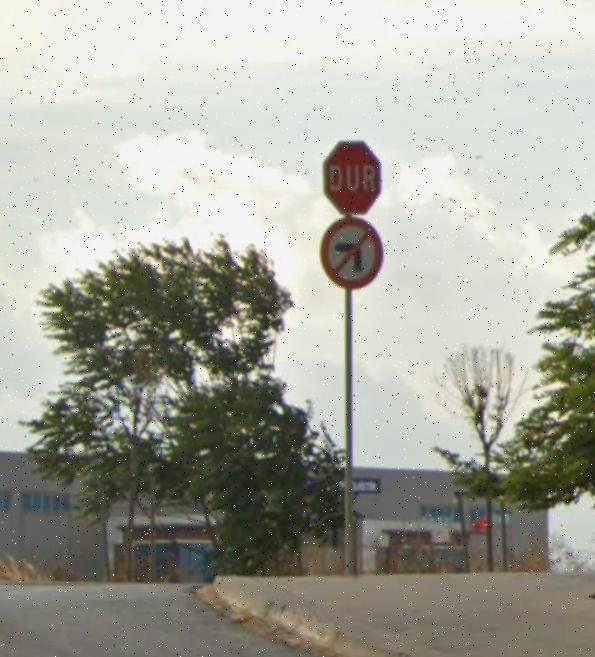leftturnsareforbidden: (318, 217, 389, 292)
stop: (320, 137, 387, 216)
